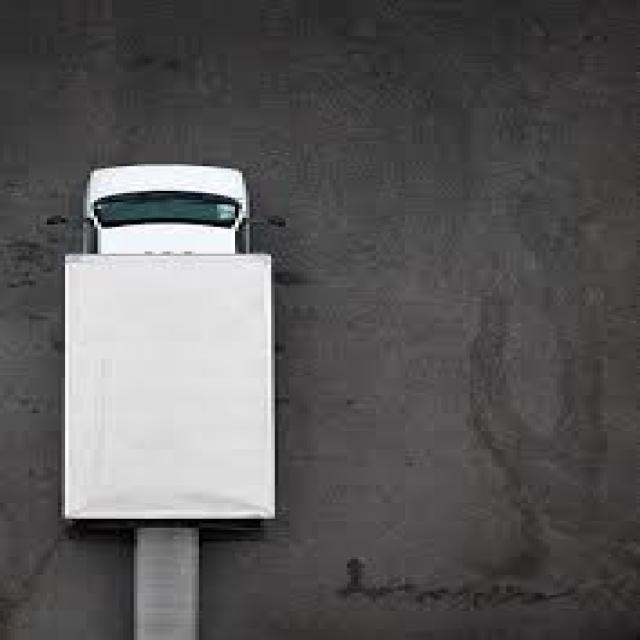truck: (62, 161, 284, 525)
